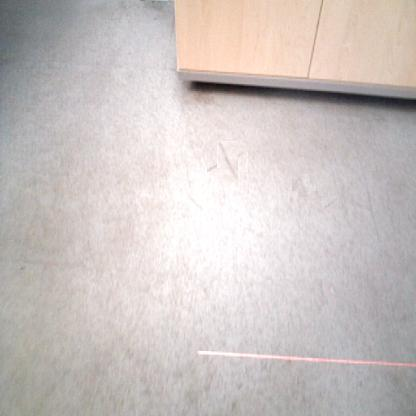mark: (212, 146, 243, 177), (295, 177, 313, 194), (186, 194, 203, 212), (320, 196, 338, 210), (18, 263, 26, 271)
